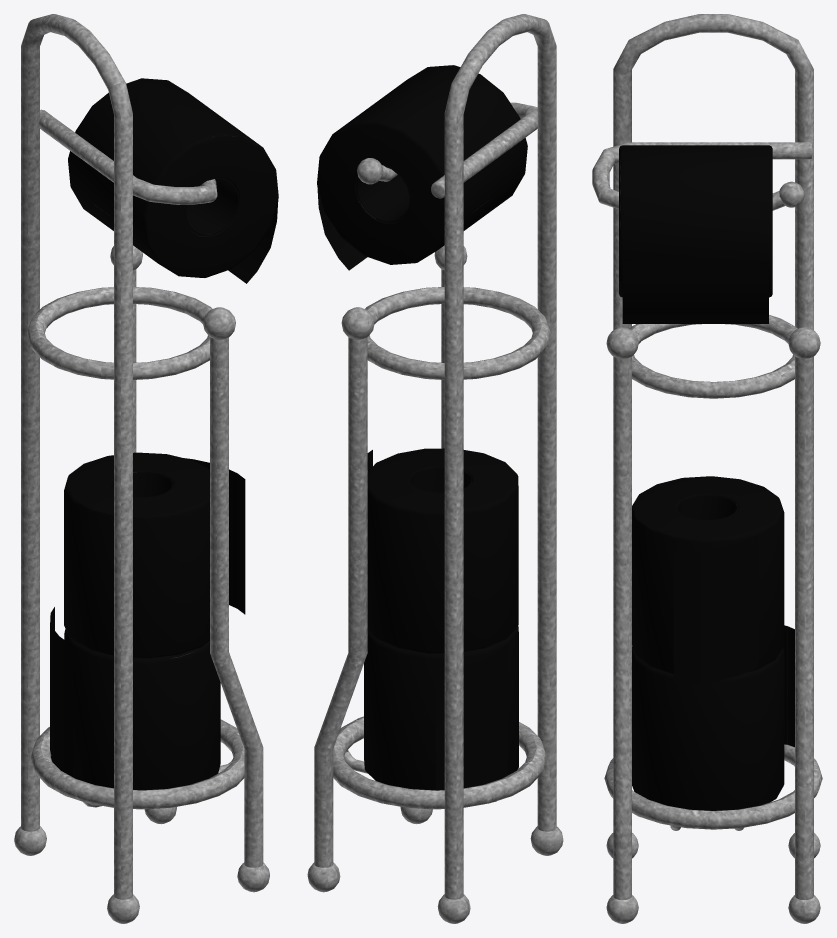
The model's file is Stand.obj.
3 renders of one model, left to right at view 1: azimuth 30°, elevation 25°; view 2: azimuth 150°, elevation 25°; view 3: azimuth 270°, elevation 25°, orthographic. The views are drawn at different scales.
Visible parts, largest first — view 1: Cylinder.002_Cylinder.004; view 2: Cylinder.002_Cylinder.004; view 3: Cylinder.002_Cylinder.004.
Boxes of the visible parts, box(x1,y1,x2,y2) form: Cylinder.002_Cylinder.004: box(14, 14, 278, 923); Cylinder.002_Cylinder.004: box(307, 14, 563, 923); Cylinder.002_Cylinder.004: box(592, 14, 822, 923).
Size of the model in its own units: 4.58 by 19.01 by 4.7.
